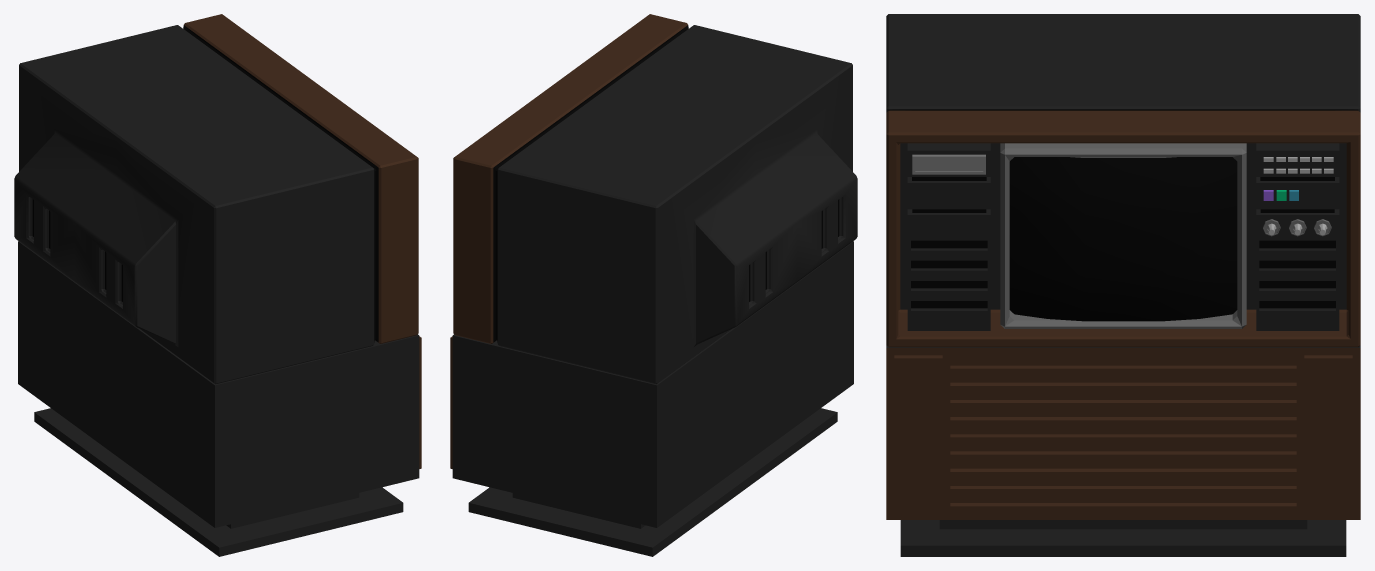
Rendered from tv-crt-09.glb.
3 views of the same model, side by side, from view 1: azimuth 30°, elevation 25°; view 2: azimuth 150°, elevation 25°; view 3: azimuth 270°, elevation 25° (orthographic). The views are drawn at different scales.
Parts seen in each view (by area): view 1: Mesh_TV_CRT_09; view 2: Mesh_TV_CRT_09; view 3: Mesh_TV_CRT_09.
Boxes of the visible parts, x1,y1,x2,y2 form: Mesh_TV_CRT_09: (14,14,421,556); Mesh_TV_CRT_09: (450,14,857,556); Mesh_TV_CRT_09: (886,14,1360,556).
Bounding box in the file's own units: 0.7585 × 1 × 1.
1 material, 1 textured.
